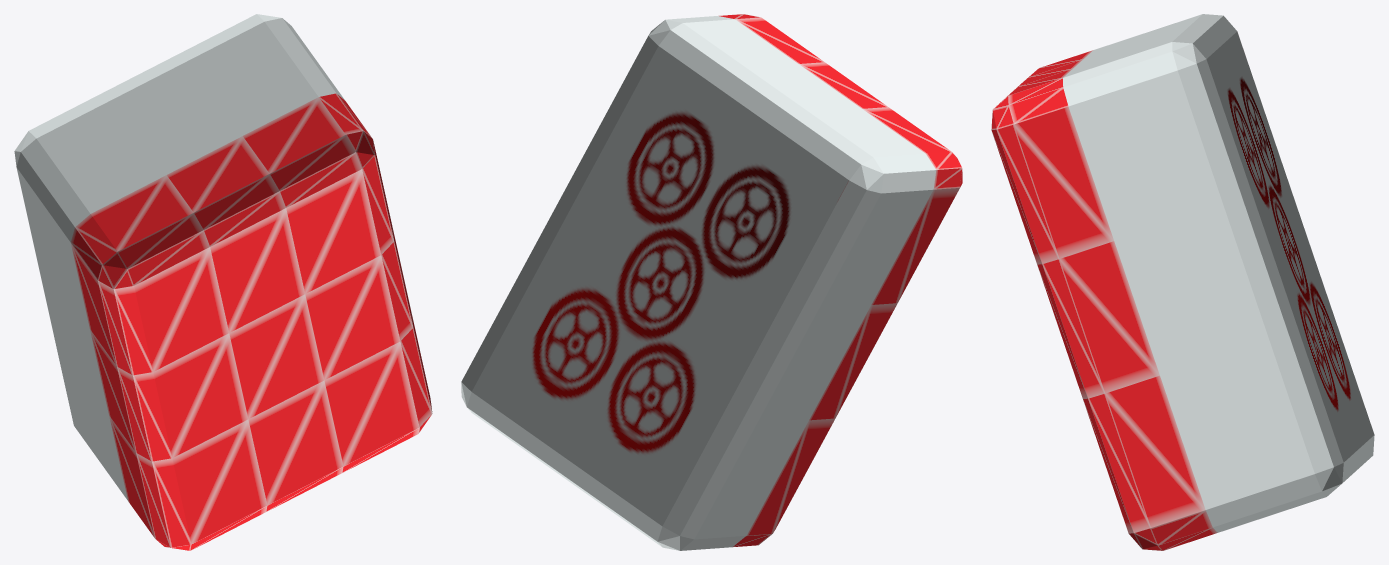
File: system.ico.obj
The picture shows the model from 3 angles, left to right: view 1: azimuth 30°, elevation 25°; view 2: azimuth 150°, elevation 25°; view 3: azimuth 270°, elevation 25°; orthographic projection. The views are drawn at different scales.
Bounding box in the file's own units: 3.67 × 4.7 × 3.16.
1 material, 1 textured.
